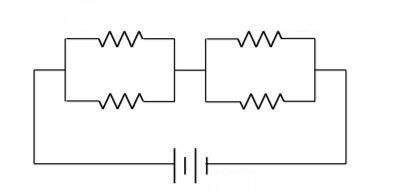resistor: (226, 87, 294, 122), (228, 18, 290, 54), (85, 21, 149, 53), (90, 86, 152, 113)
